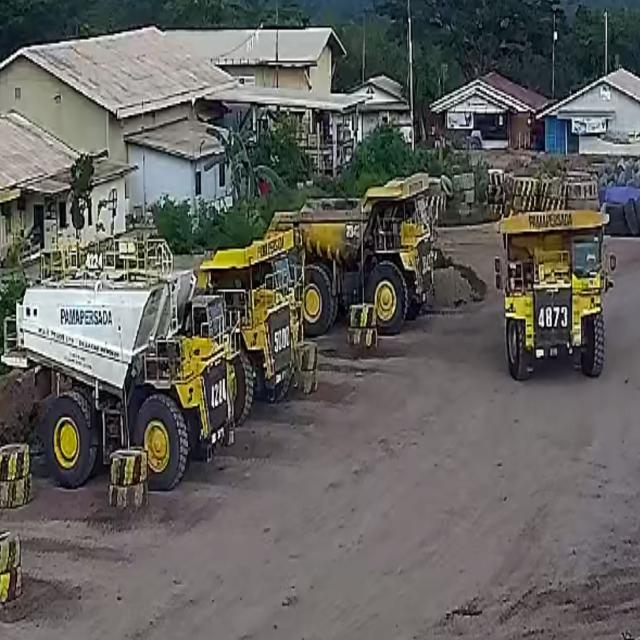dump_truck: (3, 247, 232, 508), (282, 172, 438, 332), (494, 204, 616, 382)
